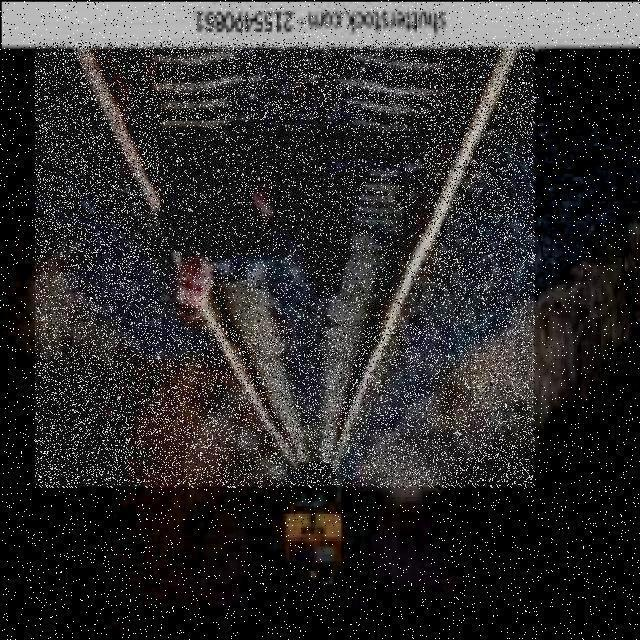rail: (37, 44, 535, 488)
